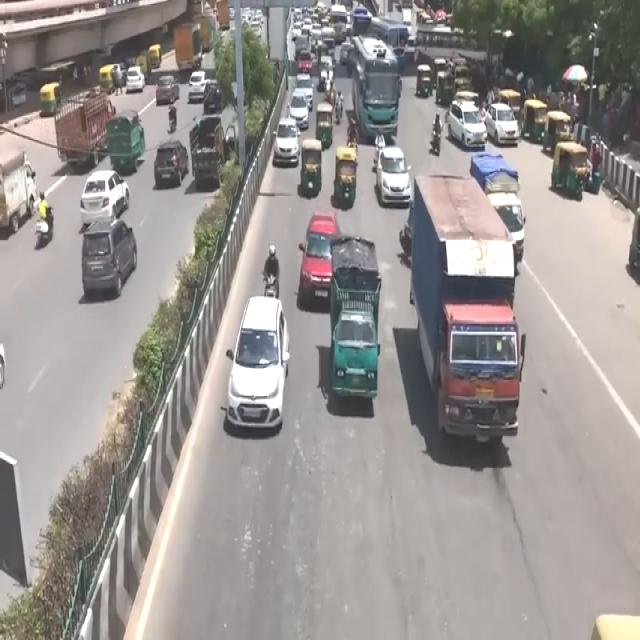BUS: (350, 45, 400, 140)
TRUCK: (408, 175, 519, 462)
